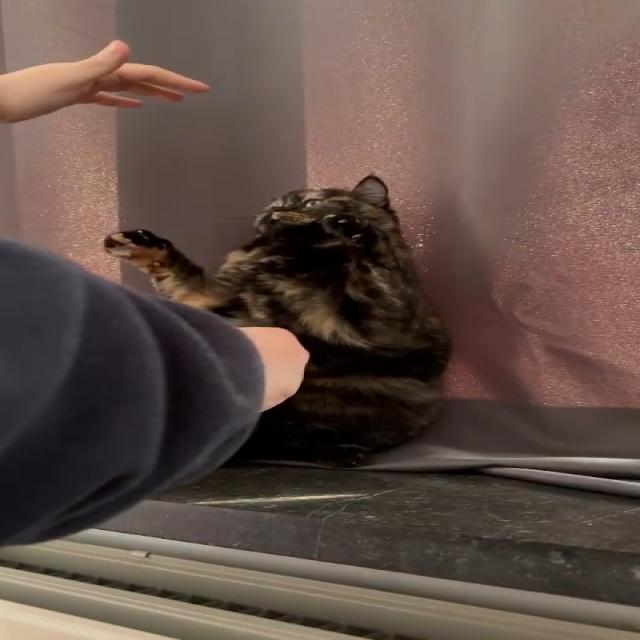authorized: (103, 173, 453, 468)
